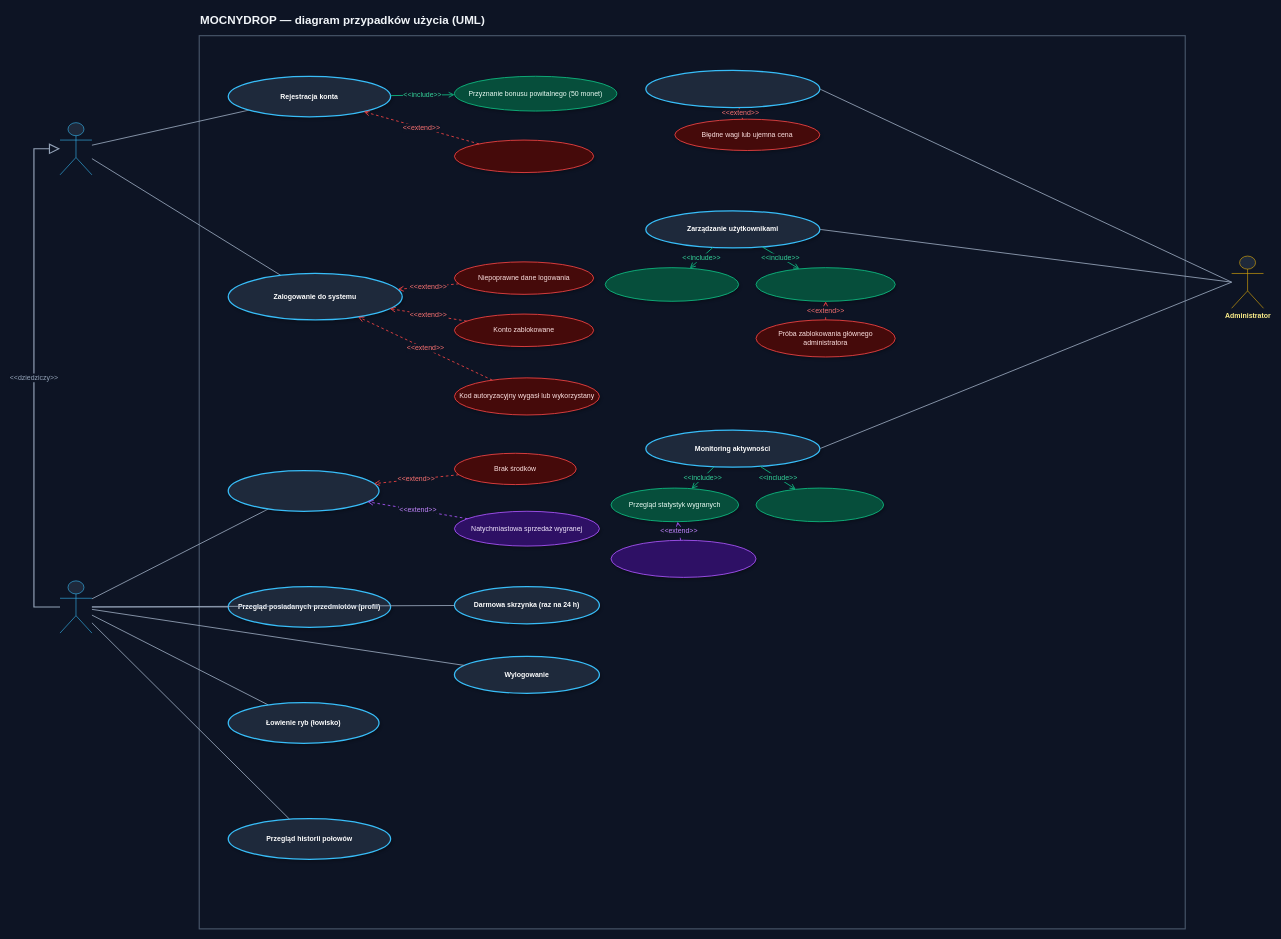
Image size: 1281x939. Some labels were removed from this diagram. Here are the shapes that lost their labels. From the top down, the centre of each, then its label:
At (x=733, y=89): "Zarządzanie skrzynkami".
At (x=75, y=148): "Użytkownik (Gość)".
At (x=524, y=157): "Login lub e-mail już zajęty".
At (x=672, y=285): "Zmiana salda gracza".
At (x=826, y=285): "Zablokowanie konta".
At (x=304, y=491): "Otwarcie skrzynki".
At (x=820, y=505): "Eksport raportu".
At (x=684, y=559): "Alert: podejrzane serie wygranych".
At (x=75, y=606): "Zalogowany Gracz".
